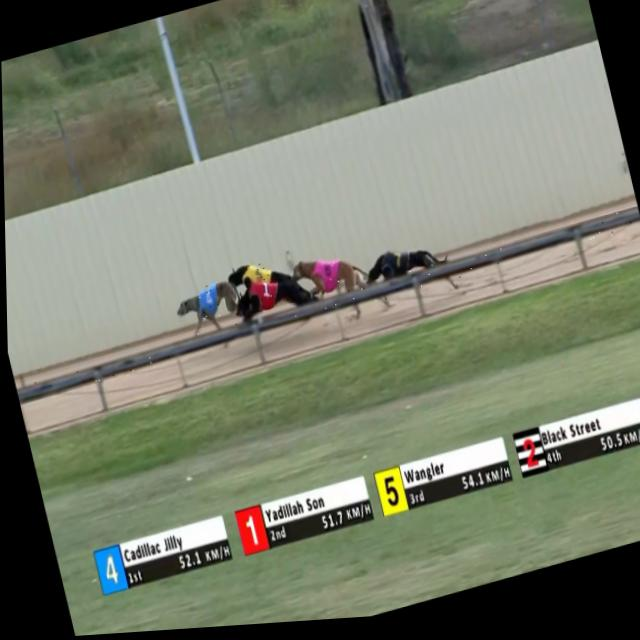dog_eight: (314, 260, 339, 292)
dog_five: (245, 265, 270, 290)
dog_four: (196, 286, 220, 323)
dog_one: (251, 282, 274, 308)
dog_seven: (383, 250, 410, 284)
rail: (15, 215, 638, 404)
